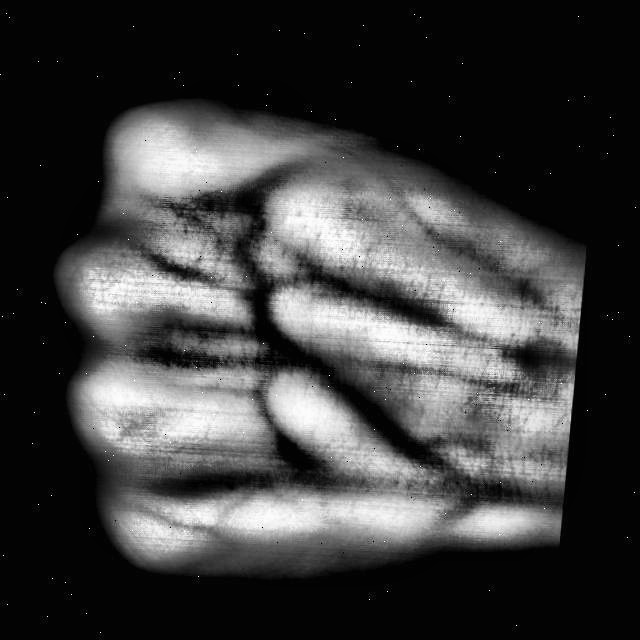Vein: (306, 349, 463, 484)
